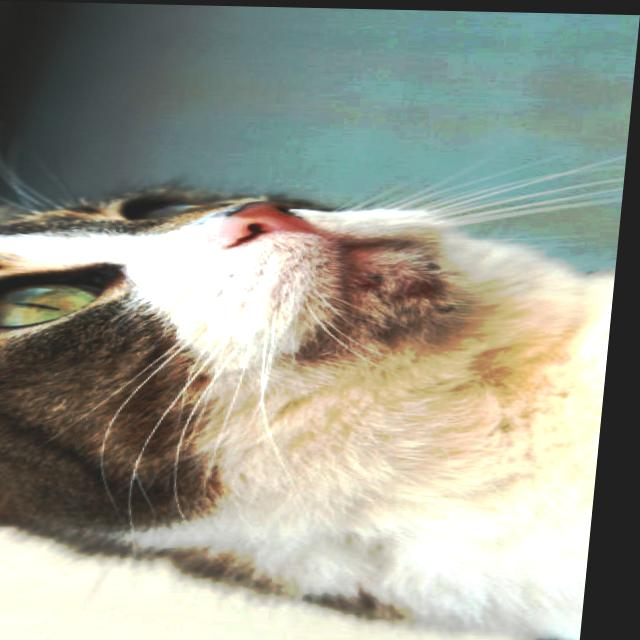acne: (339, 239, 477, 351)
